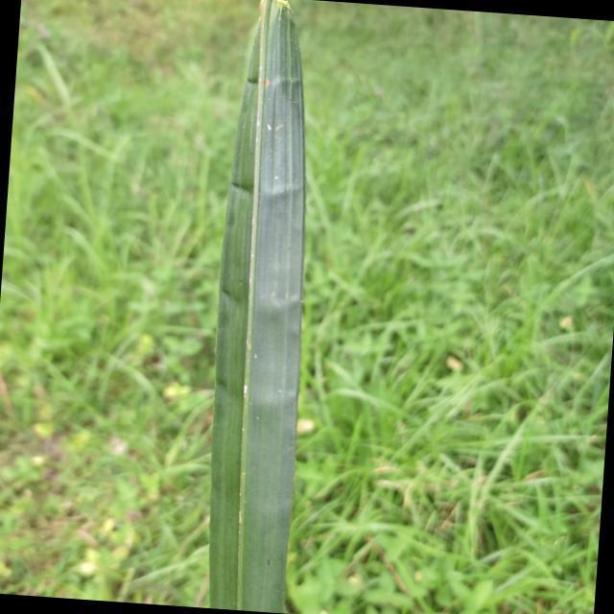Boron: (206, 0, 309, 614)
